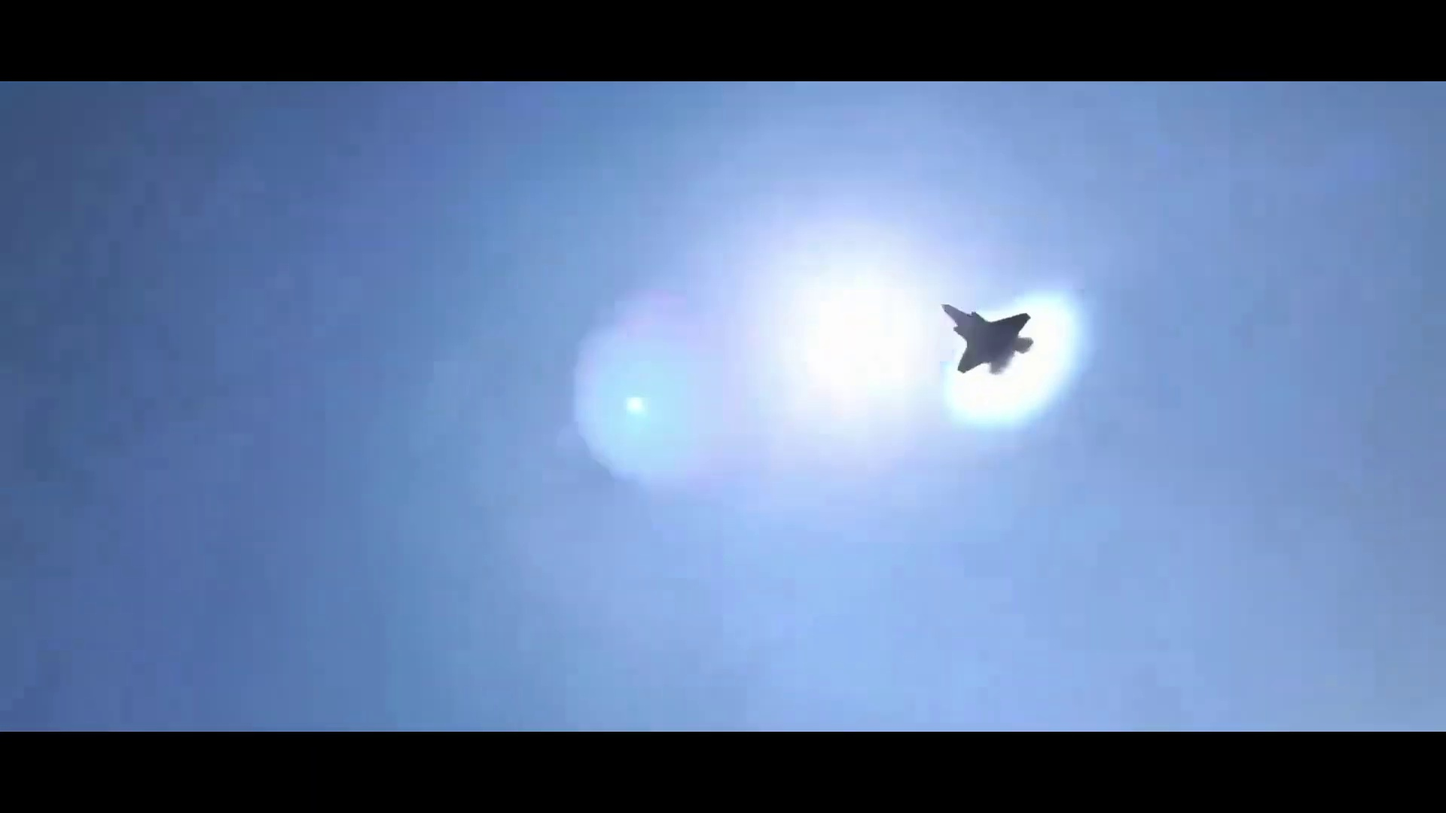F35: (943, 303, 1035, 375)
